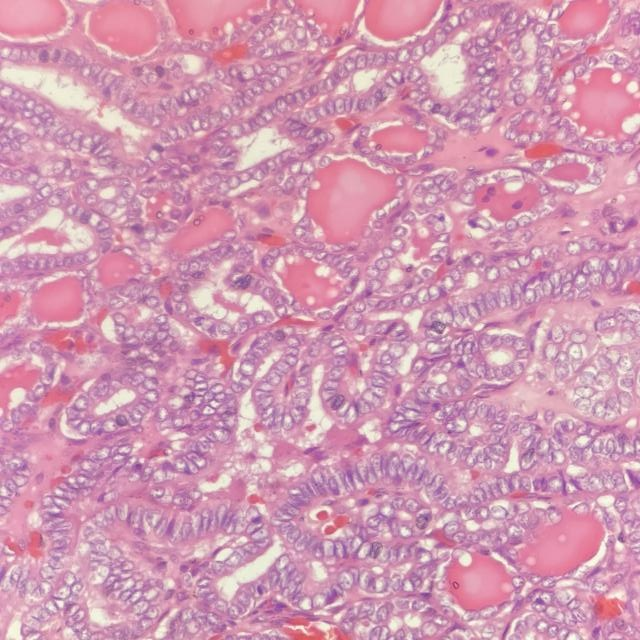TC: (313, 302, 336, 326), (287, 222, 312, 243), (248, 272, 269, 297), (286, 405, 309, 427), (286, 375, 315, 392), (319, 149, 341, 171), (297, 155, 318, 177), (334, 394, 353, 418), (281, 332, 306, 350), (391, 170, 410, 193), (239, 358, 261, 377), (413, 285, 431, 308), (387, 236, 409, 254), (349, 299, 371, 317), (341, 263, 363, 281), (355, 459, 370, 484), (332, 469, 349, 491), (409, 357, 428, 376), (356, 398, 375, 417), (374, 255, 394, 273), (250, 165, 270, 183), (399, 411, 429, 423), (329, 343, 351, 359), (280, 355, 303, 369), (261, 372, 283, 386), (326, 367, 348, 381), (271, 292, 288, 310), (378, 350, 396, 367), (251, 308, 269, 325), (422, 192, 441, 208), (310, 467, 326, 486), (368, 384, 390, 397), (387, 195, 403, 210)
